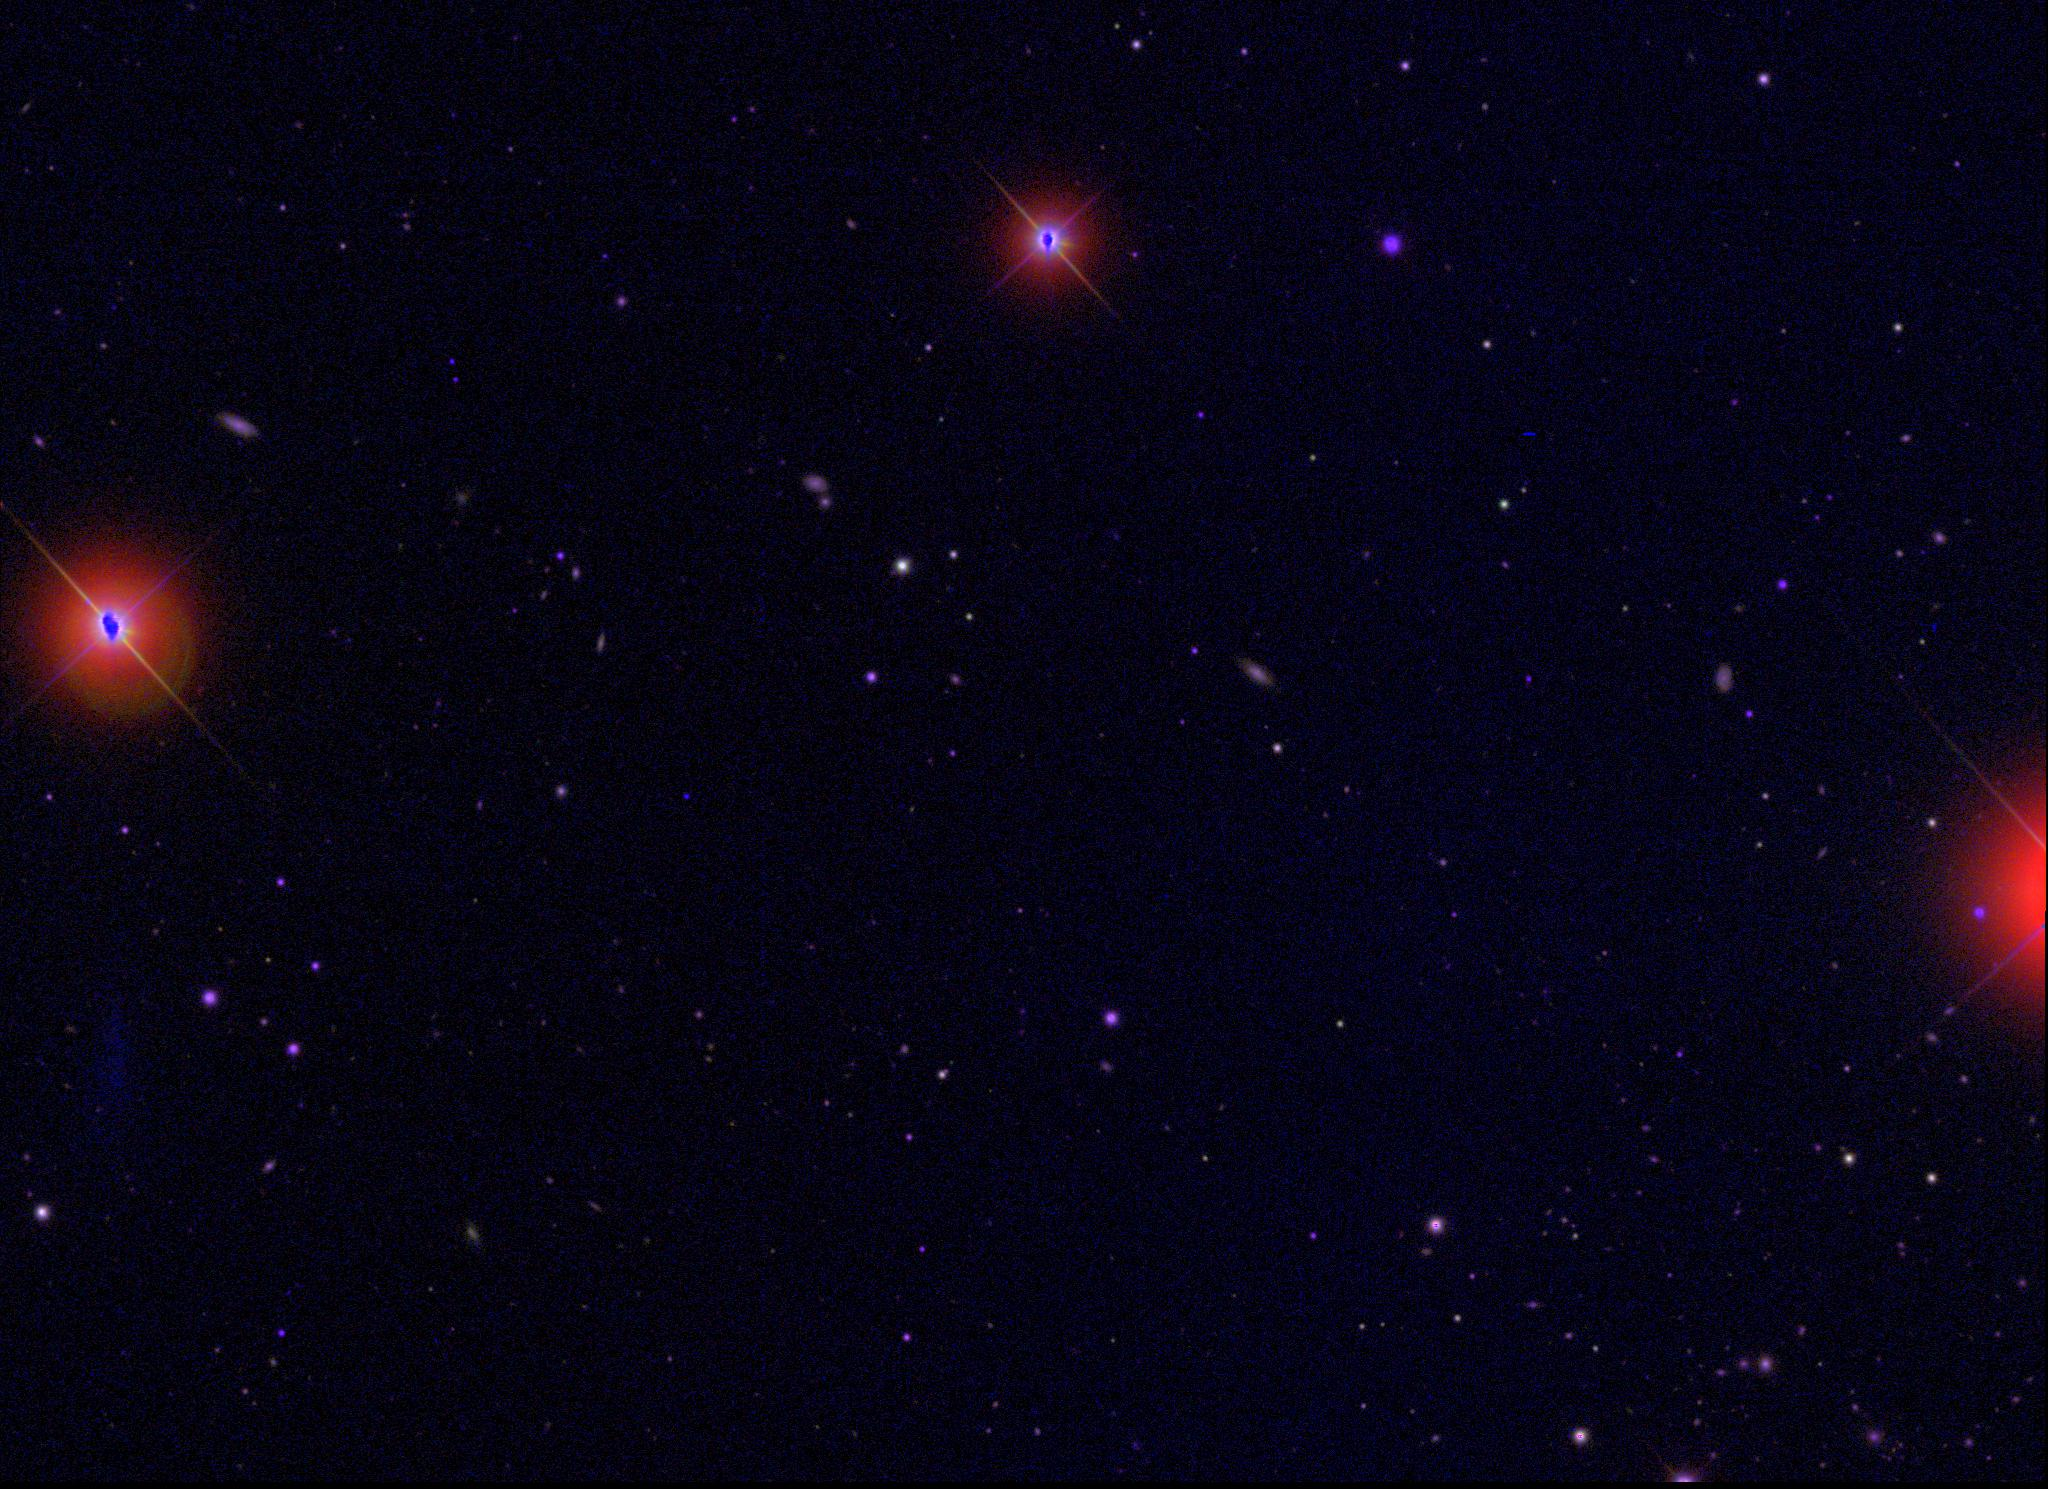L: (679, 789, 693, 803)
